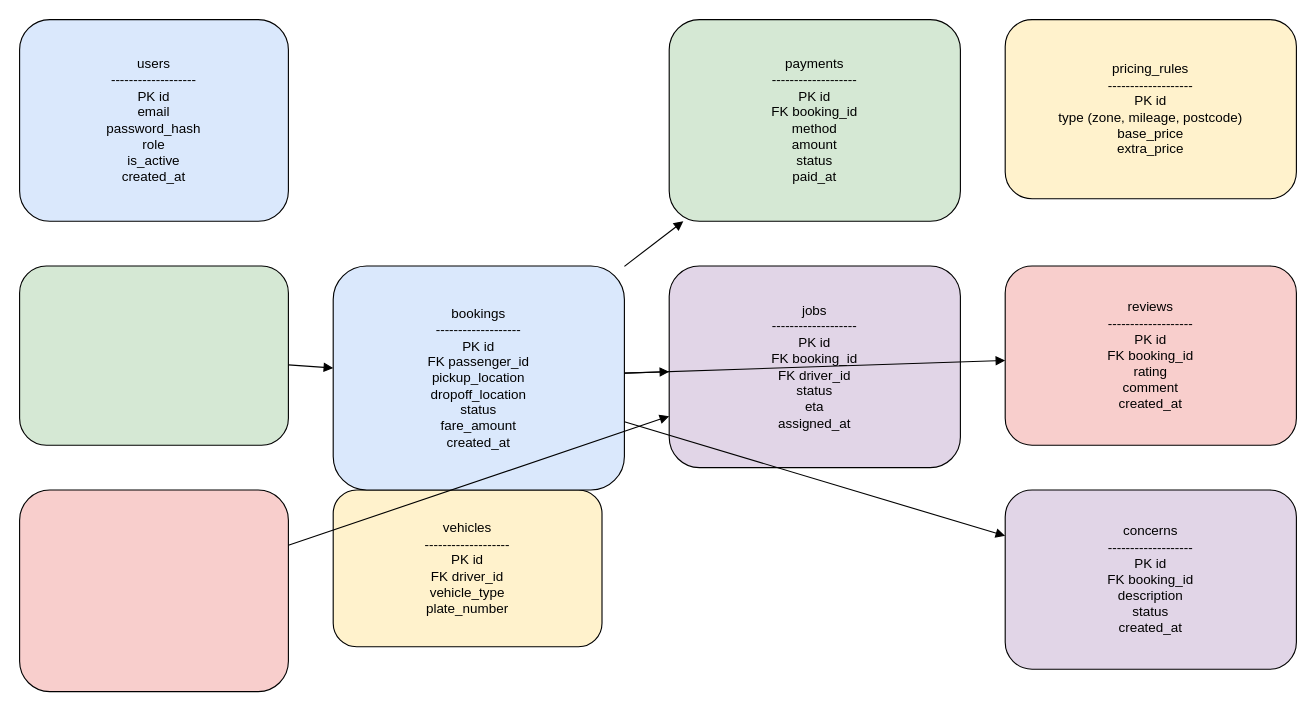
The diagram is 1316 pixels wide and 711 high, and some of its shapes have lost their labels. Here are the shapes that lost their labels. From the top down, the centre of each, then its label:
pixel 153 355: passengers ------------------- PK id name phone email created_at
pixel 153 590: drivers ------------------- PK id name phone status approved created_at
